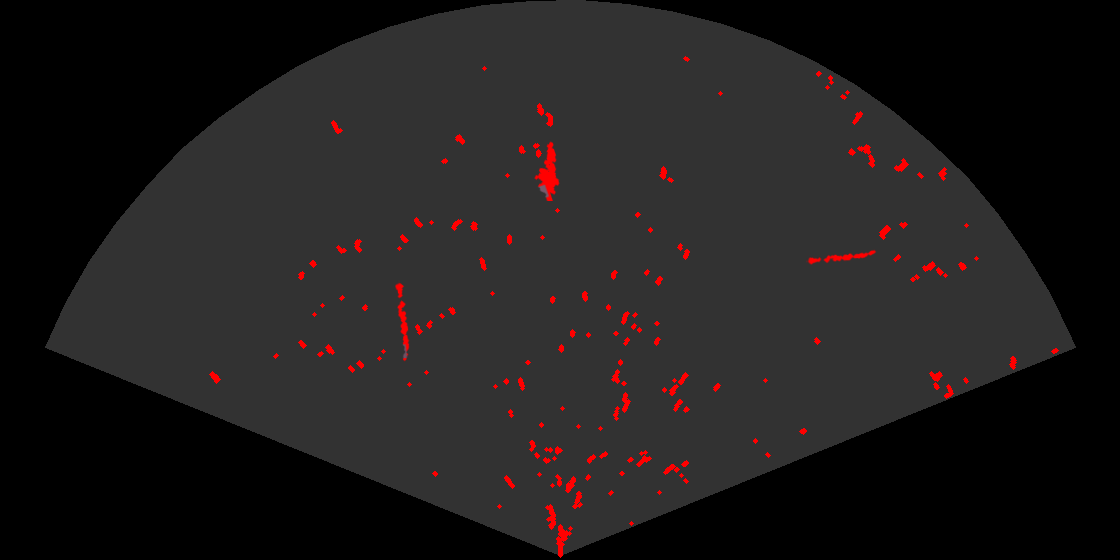chain: (394, 280, 411, 363), (806, 248, 877, 266)
frogman: (533, 139, 561, 201)
